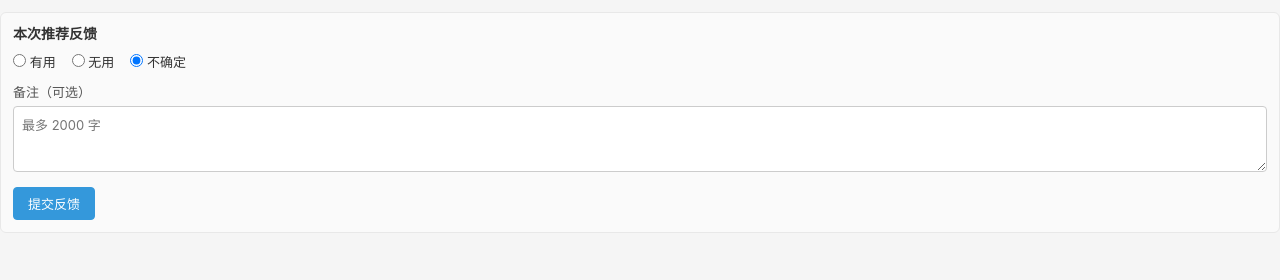
Test: FeedbackControls › 运行级提交成功时展示已保存与更新时间
Click the button with test id "feedback-submit" at (54, 204), box left=13, top=187, right=95, bottom=220
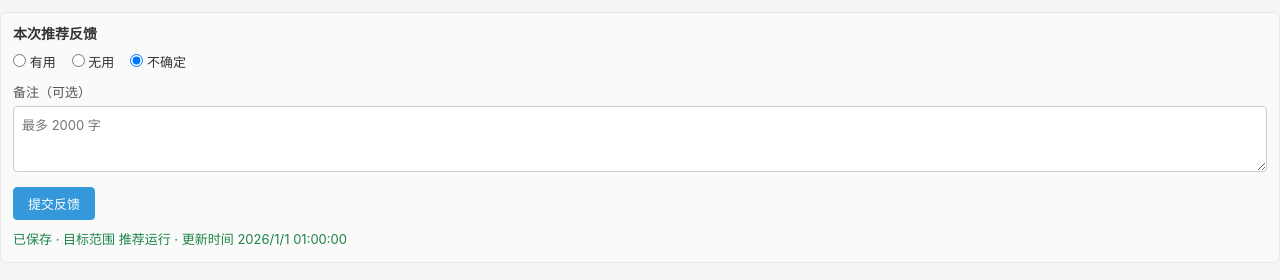
Result: the text "已保存" is shown at left=13, top=231, right=347, bottom=247
